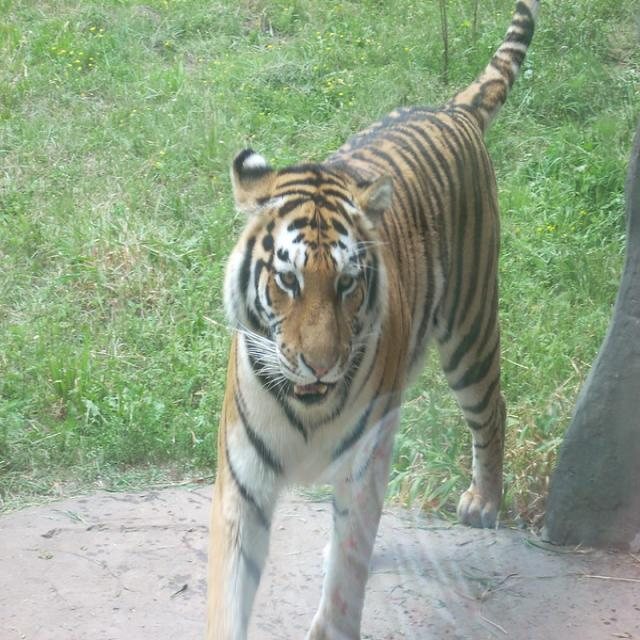Tiger: (204, 0, 534, 638)
